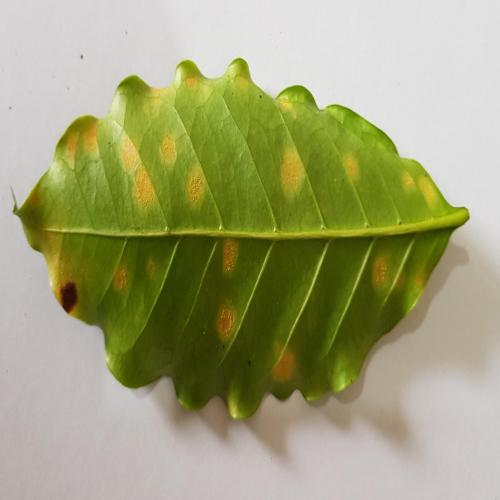phoma: (186, 76, 197, 88)
